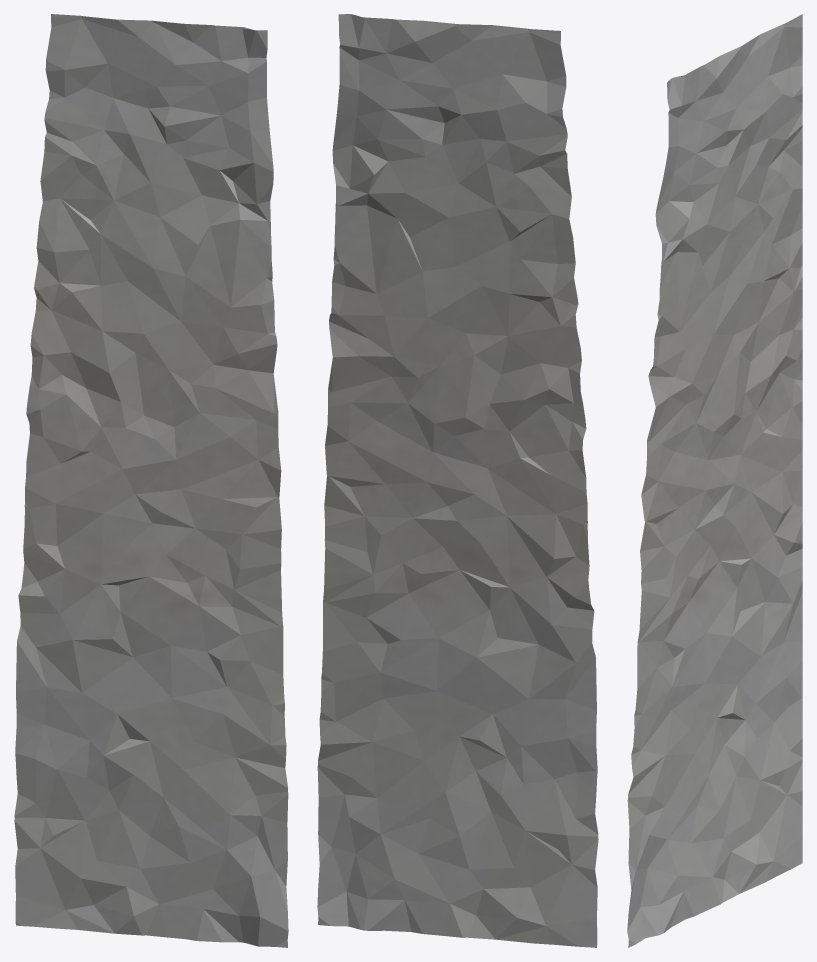
3 renders of one model, left to right at view 1: azimuth 30°, elevation 25°; view 2: azimuth 210°, elevation 25°; view 3: azimuth 270°, elevation 25°, orthographic. The views are drawn at different scales.
Size of the model in its own units: 0.1772 by 0.8373 by 0.1539.
1 material, 1 textured.
